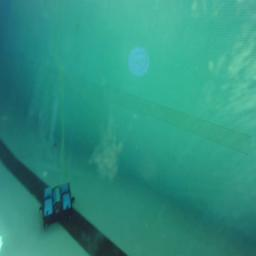front: (38, 182, 77, 228)
